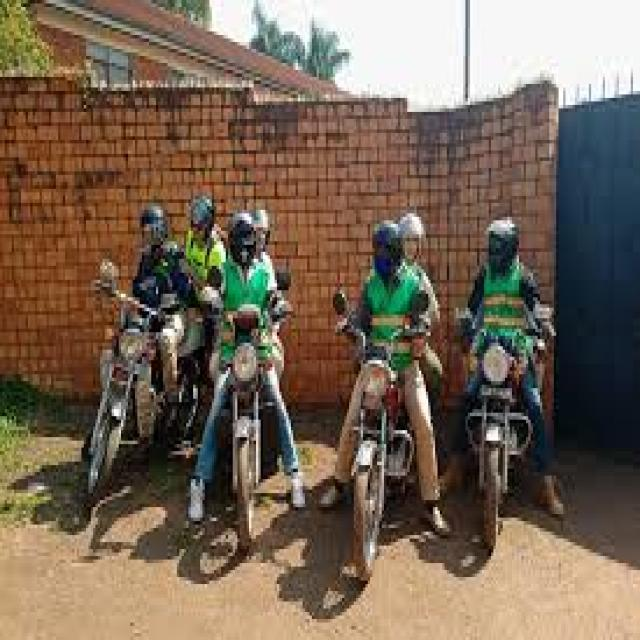bodaboda: (41, 206, 202, 530), (322, 255, 447, 593), (186, 253, 307, 575), (451, 272, 564, 580)
